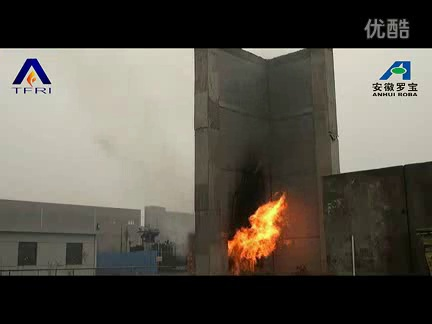fire: (227, 190, 291, 275)
